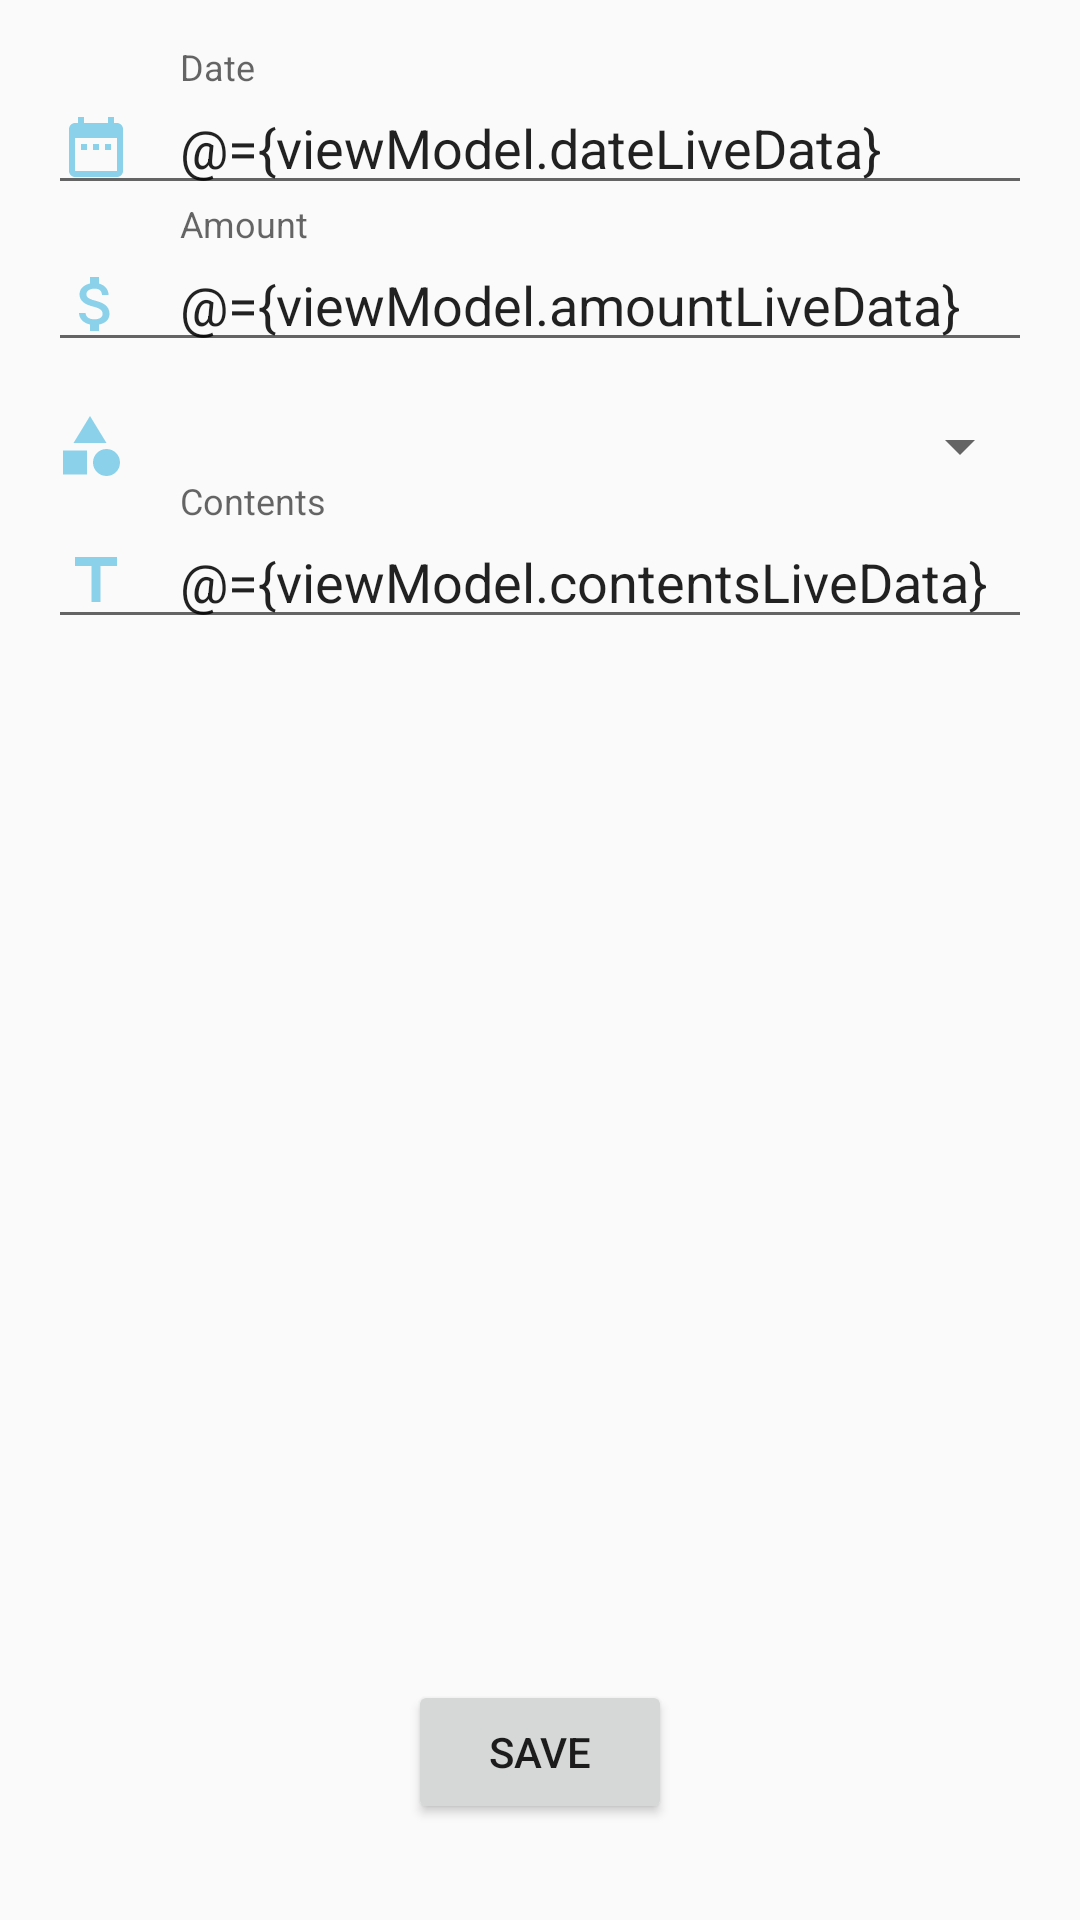

Where icons sit on this 1080x1920 app screen, as [x1, y1, x2, y2]:
category: [63, 416, 120, 476]
